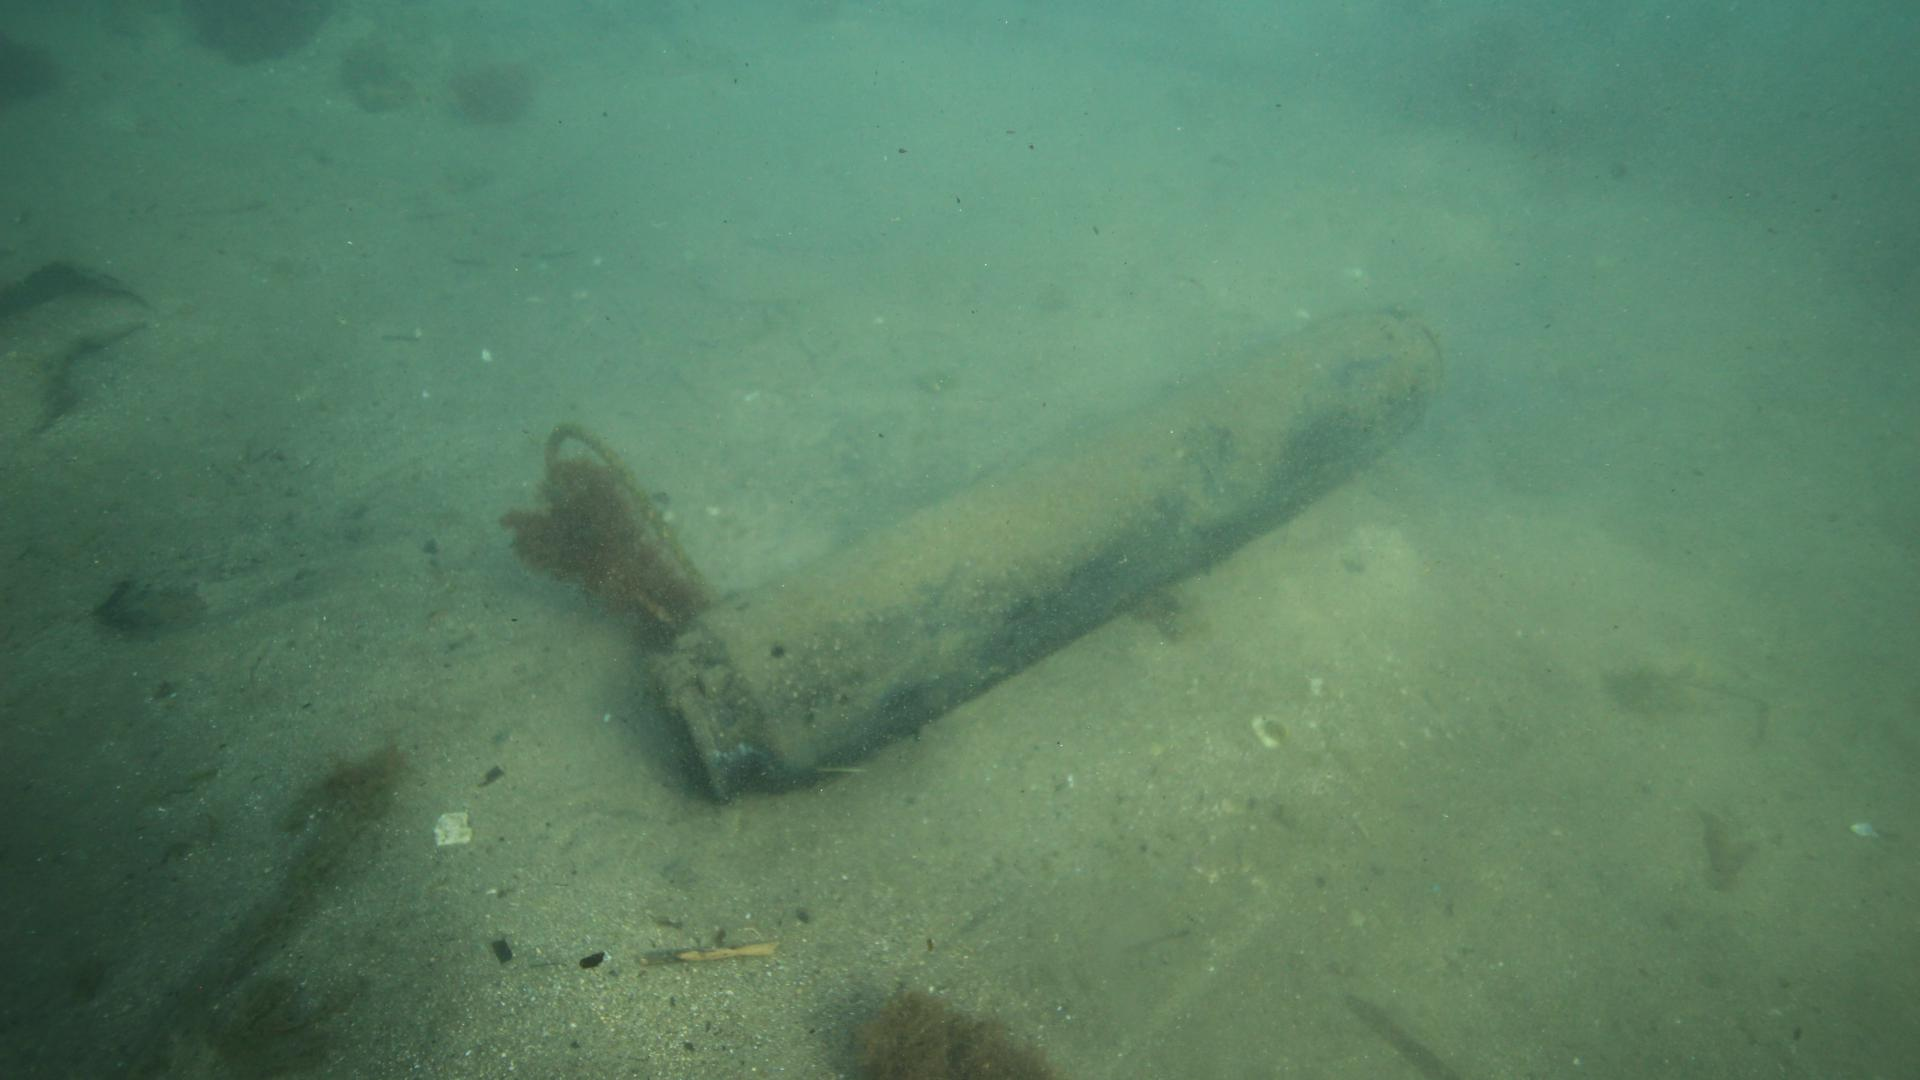bundle of ropes: (538, 415, 715, 630)
eel fish trap: (644, 298, 1448, 804)
